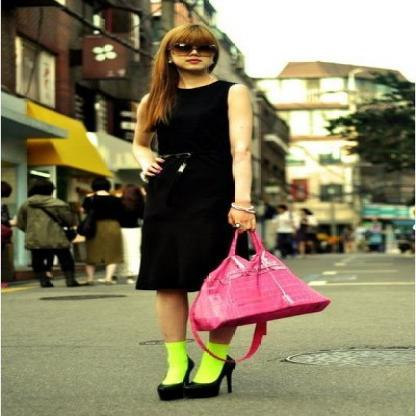bag: (180, 241, 330, 358)
dress: (139, 80, 255, 287)
shoe: (157, 355, 235, 401)
